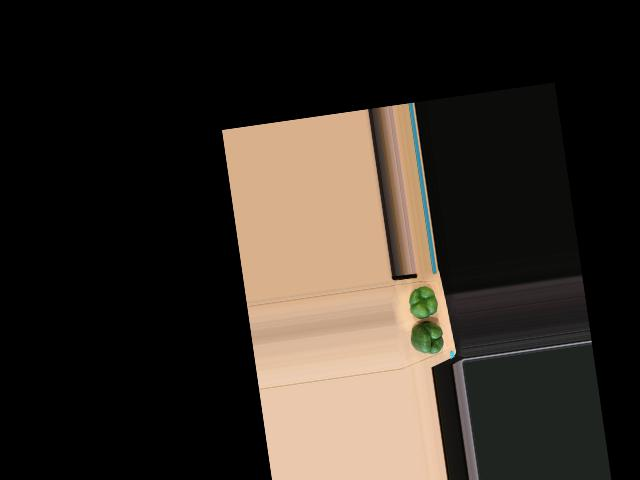bell_pepper: (403, 285, 440, 321)
